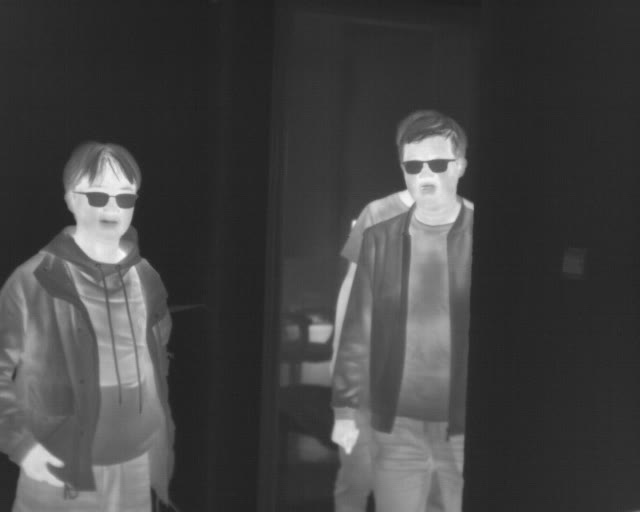face: (62, 138, 141, 242), (399, 113, 468, 212)
